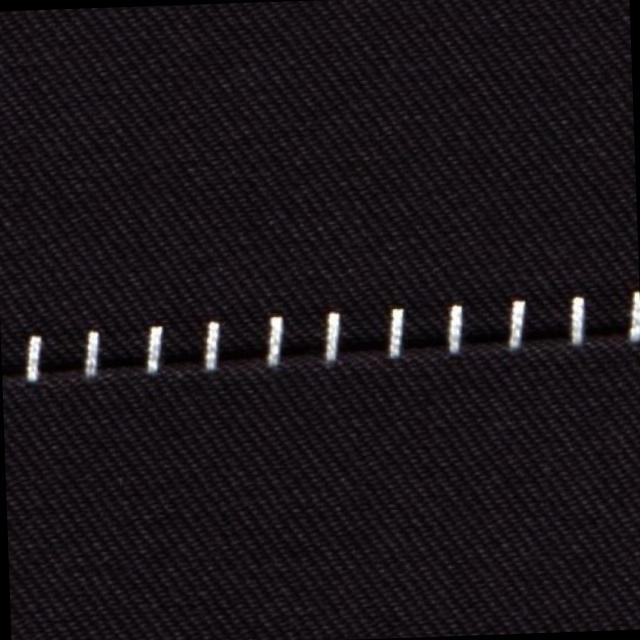gray stitch: (19, 286, 640, 382)
